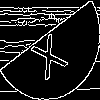X: (25, 24, 69, 81)
